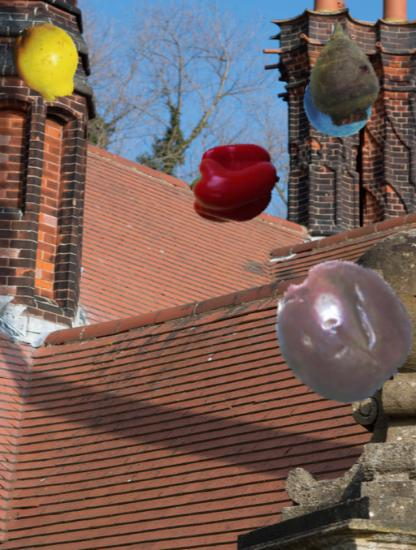Beetroot: (286, 17, 396, 127)
Huckleberry: (302, 68, 373, 139)
Passion: (270, 258, 415, 403)
Pepper: (190, 139, 279, 228)
Quince: (7, 21, 89, 103)
